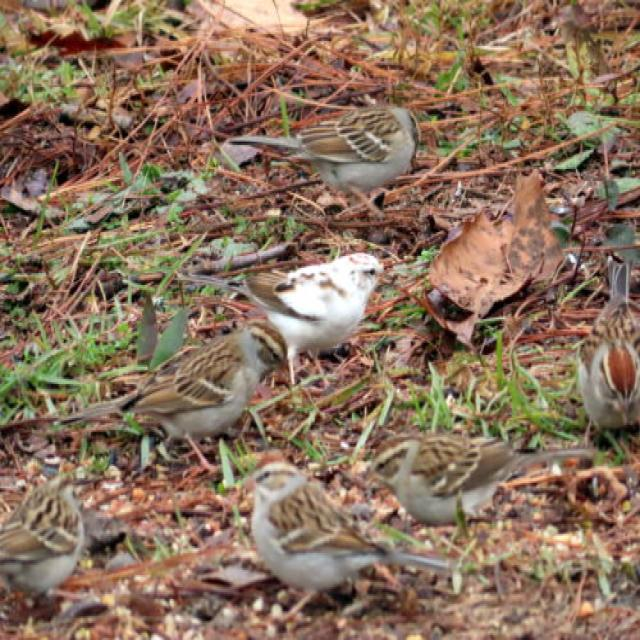bird: (243, 458, 458, 616), (167, 253, 390, 393), (49, 323, 288, 441), (362, 435, 598, 533), (277, 96, 430, 210)
